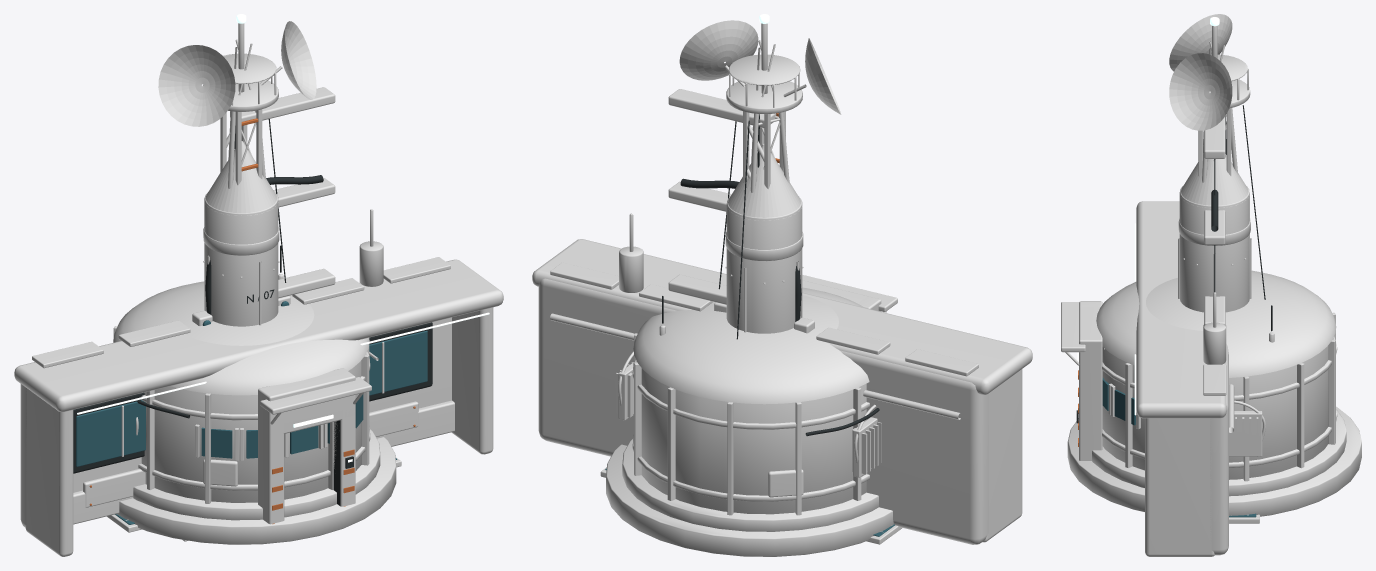
Rendered from colony-hardware.glb.
3 views of the same model, side by side, from view 1: azimuth 30°, elevation 25°; view 2: azimuth 150°, elevation 25°; view 3: azimuth 270°, elevation 25° (orthographic). The views are drawn at different scales.
Visible parts, largest first — view 1: pressure-habitat / ceramic-paint, service-wall / ceramic-paint, service-wall / dusty-alloy, pressure-habitat / dusty-alloy, survey-rocket / ceramic-paint, pressure-habitat / cast-foundation, relay-mast / ceramic-paint, service-wall / blue reflective glazing, launch-gantry / dusty-alloy, relay-mast / dusty-alloy, service-wall / seal rubber, pressure-habitat / blue reflective glazing (+4 smaller); view 2: service-wall / ceramic-paint, pressure-habitat / ceramic-paint, pressure-habitat / dusty-alloy, service-wall / dusty-alloy, survey-rocket / ceramic-paint, pressure-habitat / cast-foundation, relay-mast / dusty-alloy, launch-gantry / dusty-alloy, relay-mast / ceramic-paint, survey-rocket / dusty-alloy, launch-gantry / seal rubber, relay-mast / seal rubber; view 3: pressure-habitat / ceramic-paint, service-wall / ceramic-paint, service-wall / dusty-alloy, pressure-habitat / dusty-alloy, survey-rocket / ceramic-paint, pressure-habitat / cast-foundation, relay-mast / ceramic-paint, launch-gantry / dusty-alloy, relay-mast / dusty-alloy, survey-rocket / dusty-alloy, pressure-habitat / blue reflective glazing, relay-mast / seal rubber.
Part boxes in pixels (left/top/right/bottom): pressure-habitat / ceramic-paint: left=113, top=281, right=371, bottom=524; service-wall / ceramic-paint: left=14, top=259, right=503, bottom=527; service-wall / dusty-alloy: left=25, top=209, right=493, bottom=556; pressure-habitat / dusty-alloy: left=113, top=274, right=380, bottom=520; survey-rocket / ceramic-paint: left=204, top=141, right=278, bottom=326; pressure-habitat / cast-foundation: left=117, top=437, right=396, bottom=544; relay-mast / ceramic-paint: left=158, top=21, right=316, bottom=126; service-wall / blue reflective glazing: left=76, top=330, right=427, bottom=466; launch-gantry / dusty-alloy: left=220, top=87, right=335, bottom=298; relay-mast / dusty-alloy: left=202, top=23, right=282, bottom=188; service-wall / seal rubber: left=73, top=322, right=432, bottom=473; pressure-habitat / blue reflective glazing: left=201, top=394, right=363, bottom=458; service-wall / ceramic-paint: left=532, top=239, right=1032, bottom=544; pressure-habitat / ceramic-paint: left=615, top=275, right=897, bottom=514; pressure-habitat / dusty-alloy: left=618, top=311, right=886, bottom=531; service-wall / dusty-alloy: left=550, top=213, right=1022, bottom=542; survey-rocket / ceramic-paint: left=726, top=144, right=802, bottom=333; pressure-habitat / cast-foundation: left=606, top=444, right=893, bottom=556; relay-mast / dusty-alloy: left=725, top=23, right=806, bottom=192; launch-gantry / dusty-alloy: left=668, top=89, right=785, bottom=304; relay-mast / ceramic-paint: left=679, top=20, right=841, bottom=114; survey-rocket / dusty-alloy: left=725, top=232, right=803, bottom=332; launch-gantry / seal rubber: left=680, top=178, right=801, bottom=321; relay-mast / seal rubber: left=718, top=114, right=759, bottom=339; pressure-habitat / ceramic-paint: left=1061, top=270, right=1336, bottom=479; service-wall / ceramic-paint: left=1136, top=201, right=1228, bottom=555; service-wall / dusty-alloy: left=1145, top=292, right=1234, bottom=556; pressure-habitat / dusty-alloy: left=1065, top=312, right=1346, bottom=496; survey-rocket / ceramic-paint: left=1179, top=154, right=1249, bottom=312; pressure-habitat / cast-foundation: left=1067, top=406, right=1361, bottom=516; relay-mast / ceramic-paint: left=1169, top=14, right=1232, bottom=130; launch-gantry / dusty-alloy: left=1198, top=108, right=1231, bottom=325; relay-mast / dusty-alloy: left=1202, top=26, right=1250, bottom=182; survey-rocket / dusty-alloy: left=1178, top=219, right=1251, bottom=298; pressure-habitat / blue reflective glazing: left=1102, top=377, right=1135, bottom=425; relay-mast / seal rubber: left=1214, top=105, right=1265, bottom=299.
Size of the model in its own units: 10.3 by 11.02 by 6.34.
